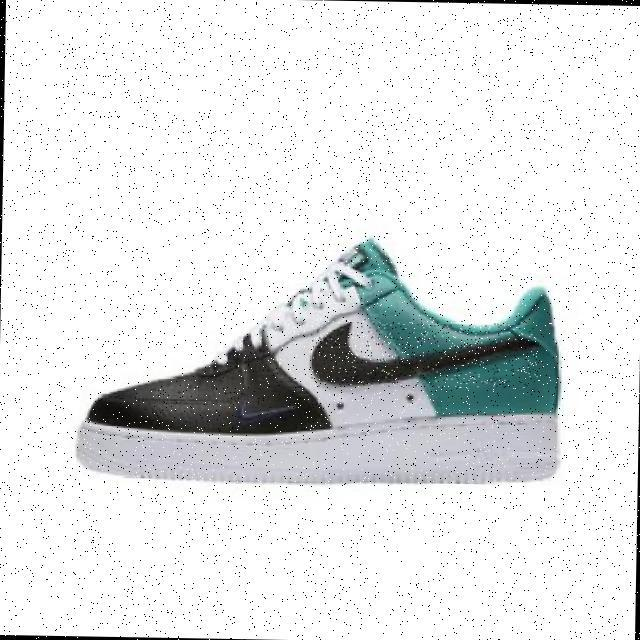Nike: (310, 319, 539, 391)
